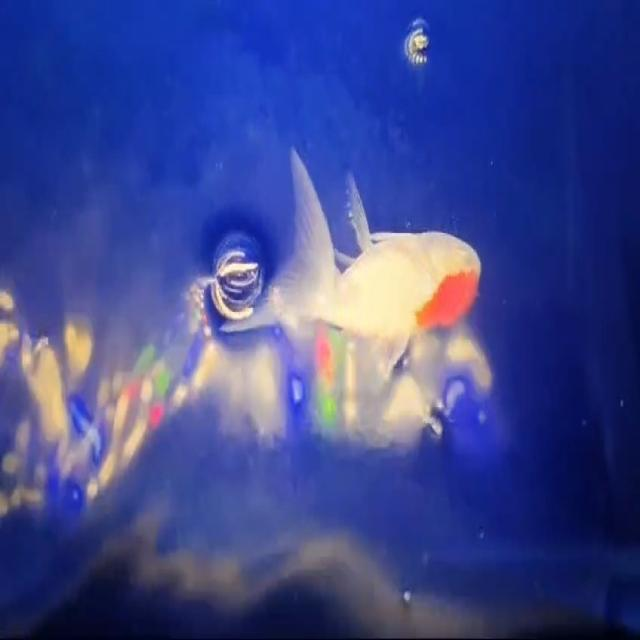fish: (270, 151, 487, 375)
